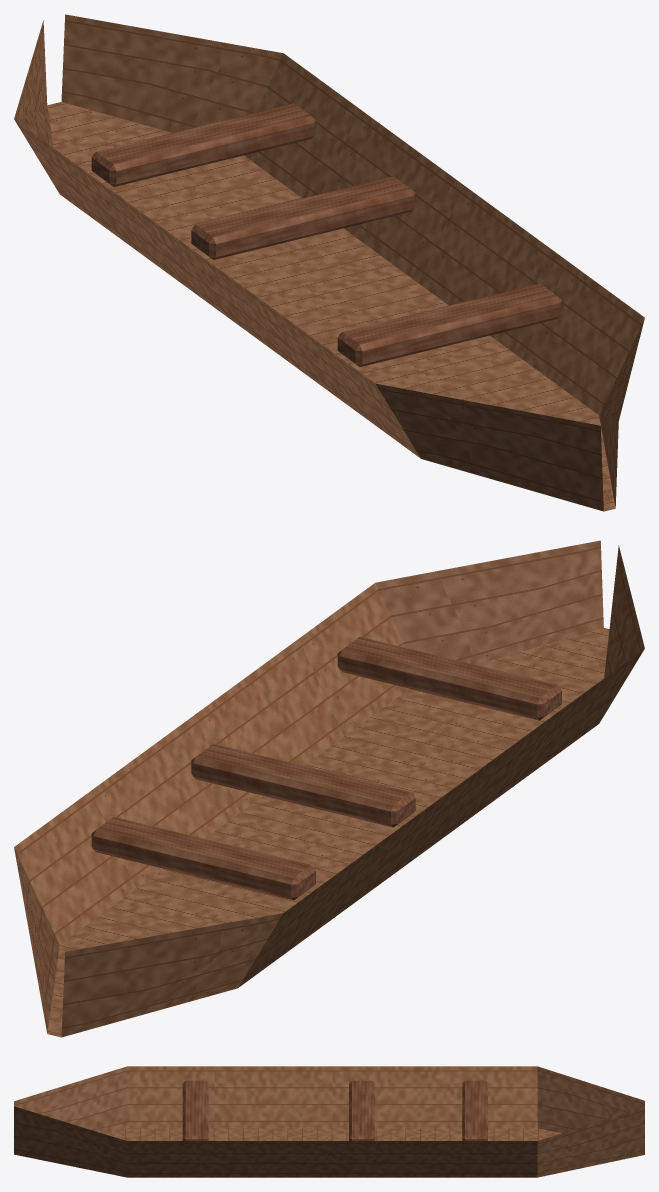
File: river_boat.gltf
3 views of the same model, one above another, from view 1: azimuth 30°, elevation 25°; view 2: azimuth 150°, elevation 25°; view 3: azimuth 270°, elevation 25° (orthographic). The views are drawn at different scales.
Visible parts, largest first — view 1: river_boat; view 2: river_boat; view 3: river_boat.
Part boxes in pixels (<box>): river_boat: <box>14,14,644,511</box>; river_boat: <box>14,540,644,1037</box>; river_boat: <box>14,1066,644,1177</box>.
Size of the model in its own units: 1.5 by 0.46 by 5.35.
2 materials, 2 textured.
